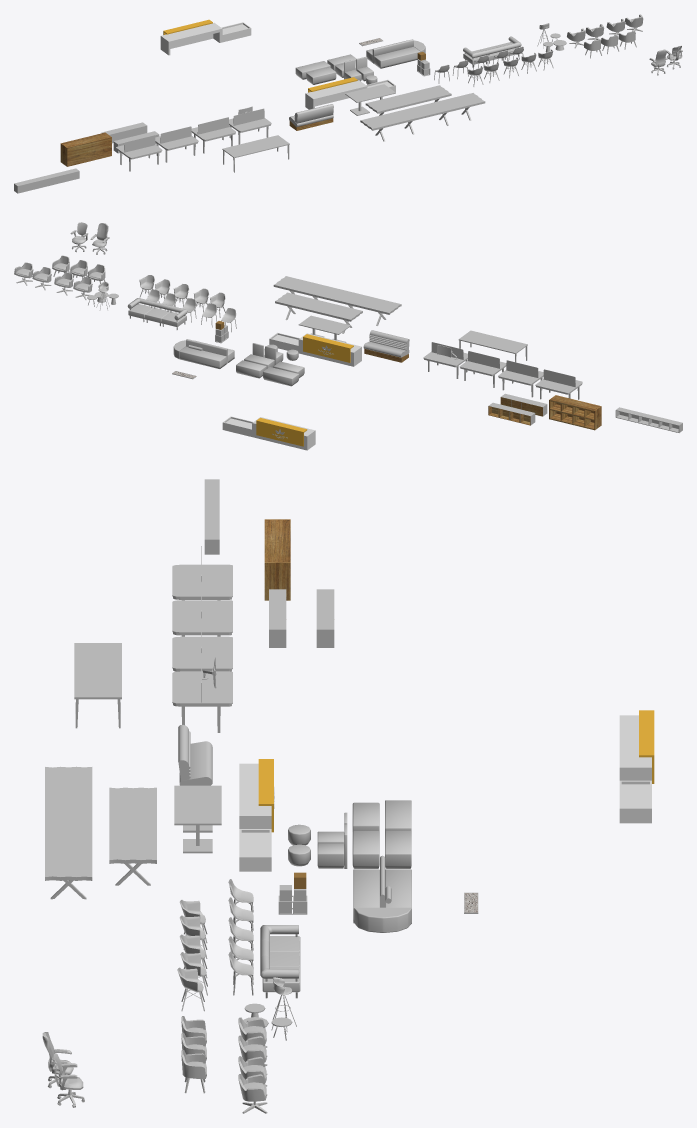
File: Furniture.fbx
3 renders of one model, top to bottom at view 1: azimuth 30°, elevation 25°; view 2: azimuth 150°, elevation 25°; view 3: azimuth 270°, elevation 25°, orthographic. The views are drawn at different scales.
Visible parts, largest first — view 1: Stone1, Lobi.001, BigShelf, Lobi, MidSizeFT, office_table_N, RestoChair, office_table_G, office_table_Y, TVTable, office_table_B, office_table_Gray (+7 smaller); view 2: Lobi.001, Lobi, Stone1, BigShelf, MidSizeFT, Sofa, RestoChair, office_table_N, office_table_Y, office_table_G, TVTable, office_table_Gray (+8 smaller); view 3: Stone1, MidSizeFT, Lobi.001, Lobi, office_table_N, FoodTable, Sofa, office_table_B, office_table_Y, office_table_G, office_table_Gray, BigShelf (+9 smaller).
Part boxes in pixels (x1,y1,x2,y2): Stone1: (360,93,485,141); Lobi.001: (160,19,251,55); BigShelf: (60,132,111,166); Lobi: (305,77,395,109); MidSizeFT: (365,85,451,115); office_table_N: (222,135,289,172); RestoChair: (289,104,333,130); office_table_G: (116,135,162,171); office_table_Y: (155,126,198,162); TVTable: (14,168,79,193); office_table_B: (229,108,271,144); office_table_Gray: (191,117,235,153); Lobi.001: (222,416,315,450); Lobi: (269,332,361,366); Stone1: (273,276,401,325); BigShelf: (549,395,601,430); MidSizeFT: (275,292,362,333); Sofa: (127,298,187,329); RestoChair: (363,330,409,362); office_table_N: (458,330,527,362); office_table_Y: (498,360,543,397); office_table_G: (535,369,582,399); TVTable: (615,407,682,432); office_table_Gray: (459,351,506,387); Stone1: (45,766,92,899); MidSizeFT: (109,787,156,885); Lobi.001: (619,710,654,823); Lobi: (239,759,274,871); office_table_N: (74,643,121,728); FoodTable: (174,785,221,853); Sofa: (260,925,300,998); office_table_B: (172,653,232,732); office_table_Y: (172,581,232,636); office_table_G: (172,546,232,600); office_table_Gray: (172,618,232,671); BigShelf: (264,519,290,600).
Bounding box in the file's own units: 30.88 × 12.83 × 1.29.
